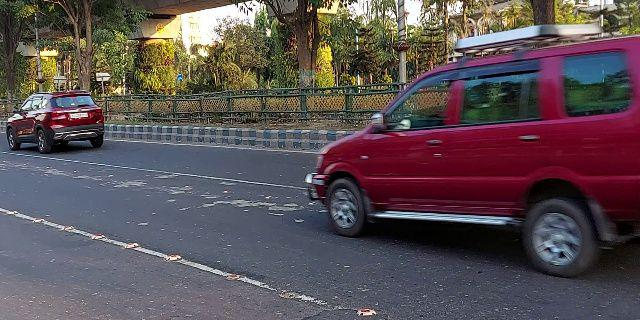Car: (300, 23, 638, 278), (4, 87, 106, 153)
